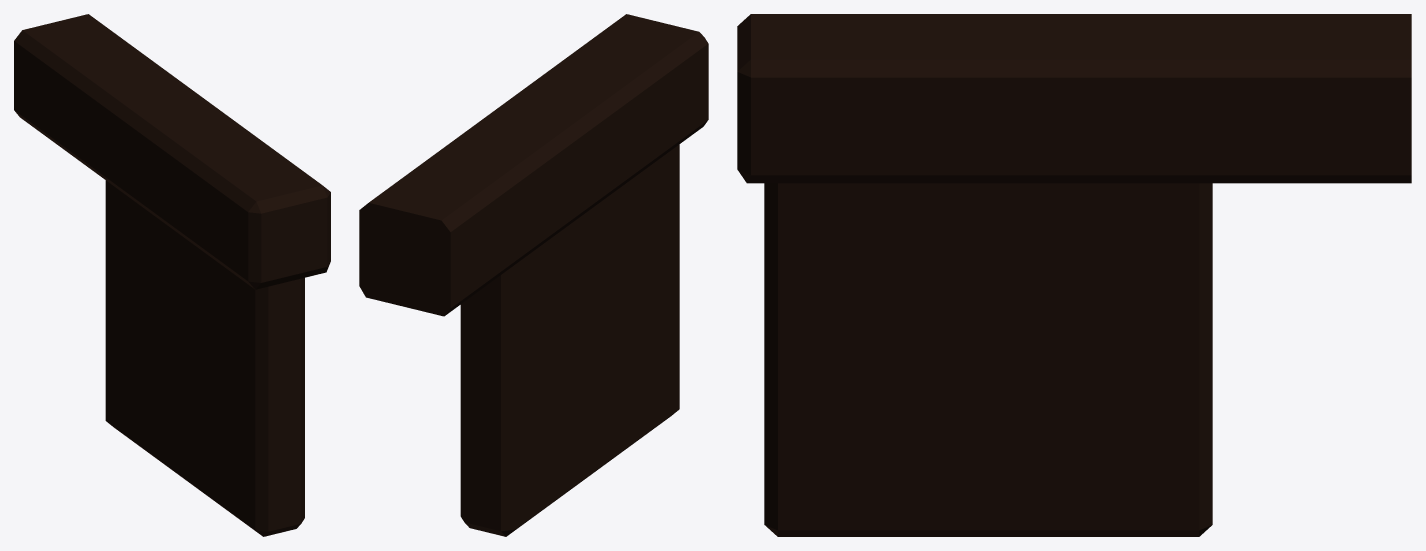
The model's file is Sign.FBX.
3 views of the same model, side by side, from view 1: azimuth 30°, elevation 25°; view 2: azimuth 150°, elevation 25°; view 3: azimuth 270°, elevation 25° (orthographic). The views are drawn at different scales.
Parts seen in each view (by area): view 1: Sign; view 2: Sign; view 3: Sign.
Part boxes in pixels (left/top/right/bottom): Sign: left=14, top=14, right=330, bottom=536; Sign: left=359, top=14, right=708, bottom=536; Sign: left=737, top=14, right=1411, bottom=536.
Size of the model in its own units: 5 by 20 by 25.
